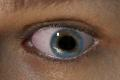eye: (51, 30, 83, 58)
